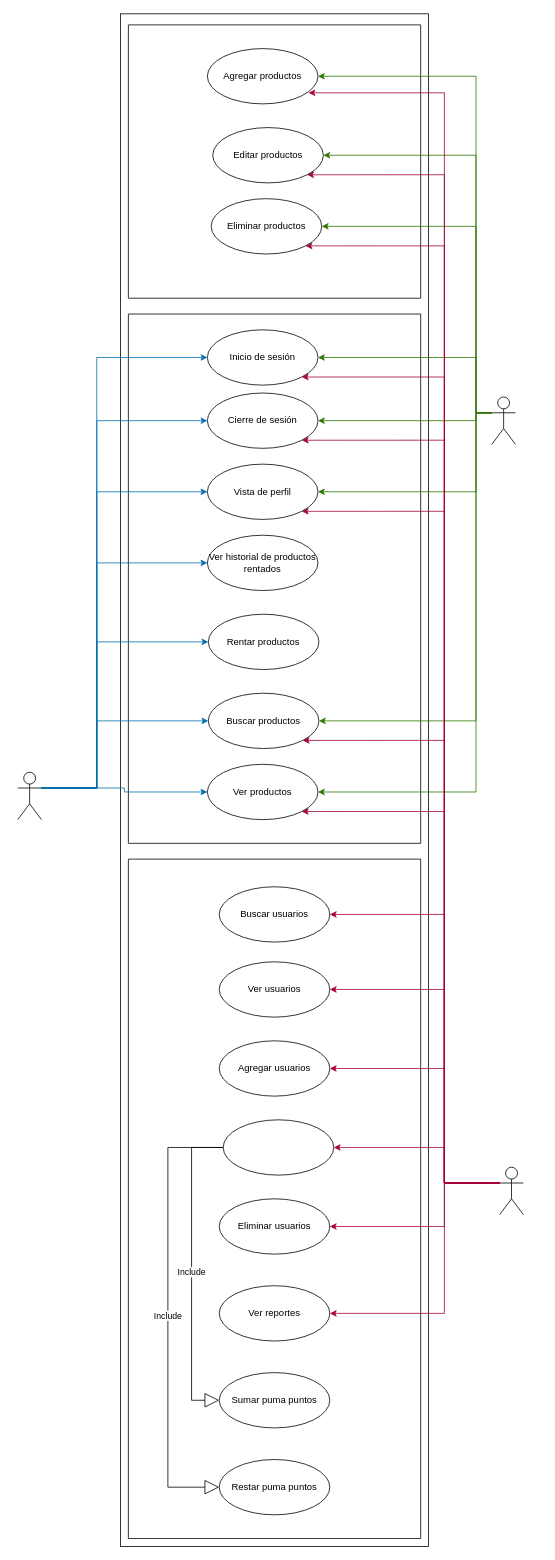
The diagram is 555 pixels wide and 1560 high, and some of its shapes have lost their labels. Here are the shapes that lost their labels. From the top down, the centre of each, then its label:
(x=503, y=420): Proveedor
(x=29, y=795): Usuario
(x=278, y=1147): Editar usuarios
(x=511, y=1190): Administrador
